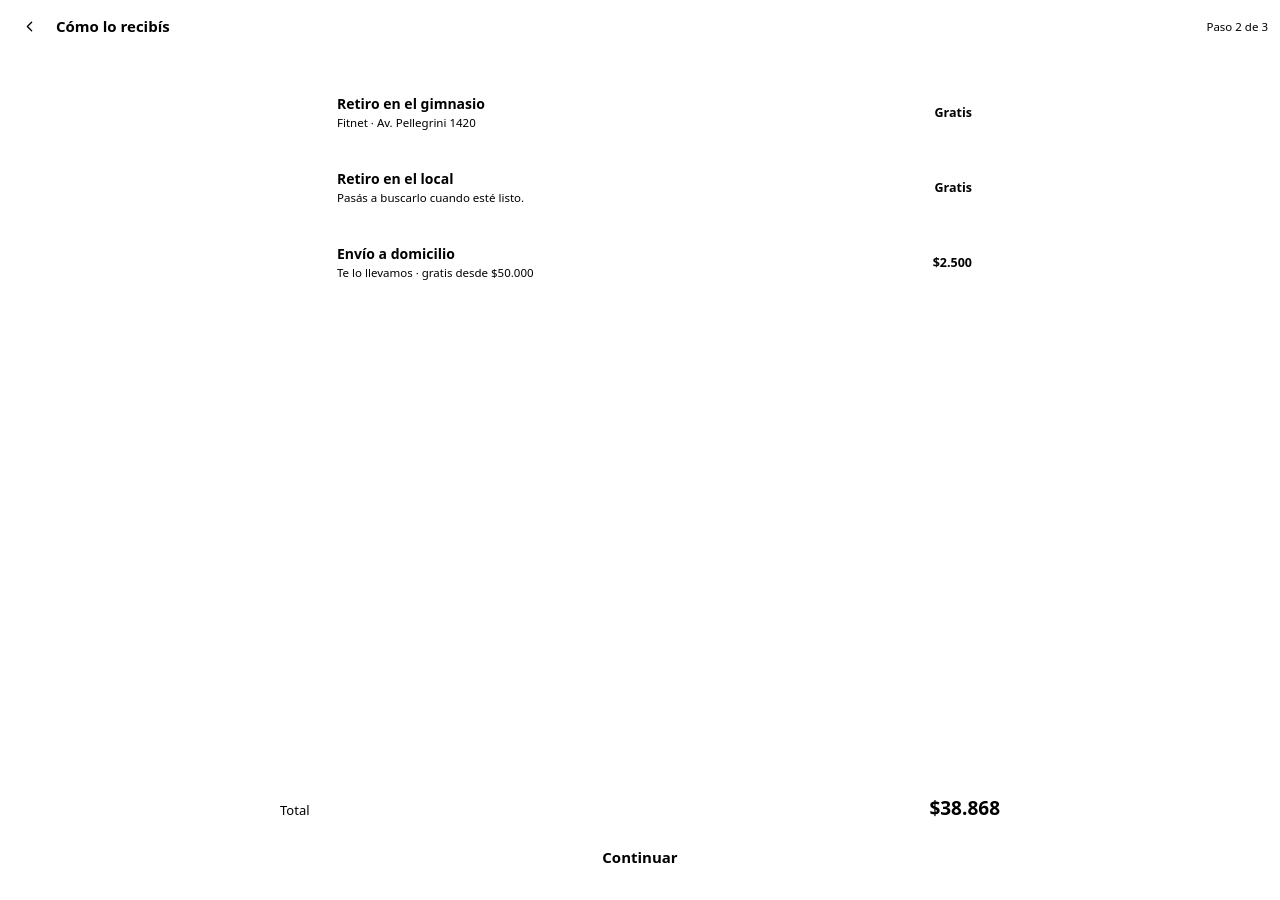
checkout · paso 2, la entrega › no se puede saltear: sin entrega elegida no avanza
Click the button "Continuar".
click(640, 857)  # box x1=280 y1=832 x2=1000 y2=882
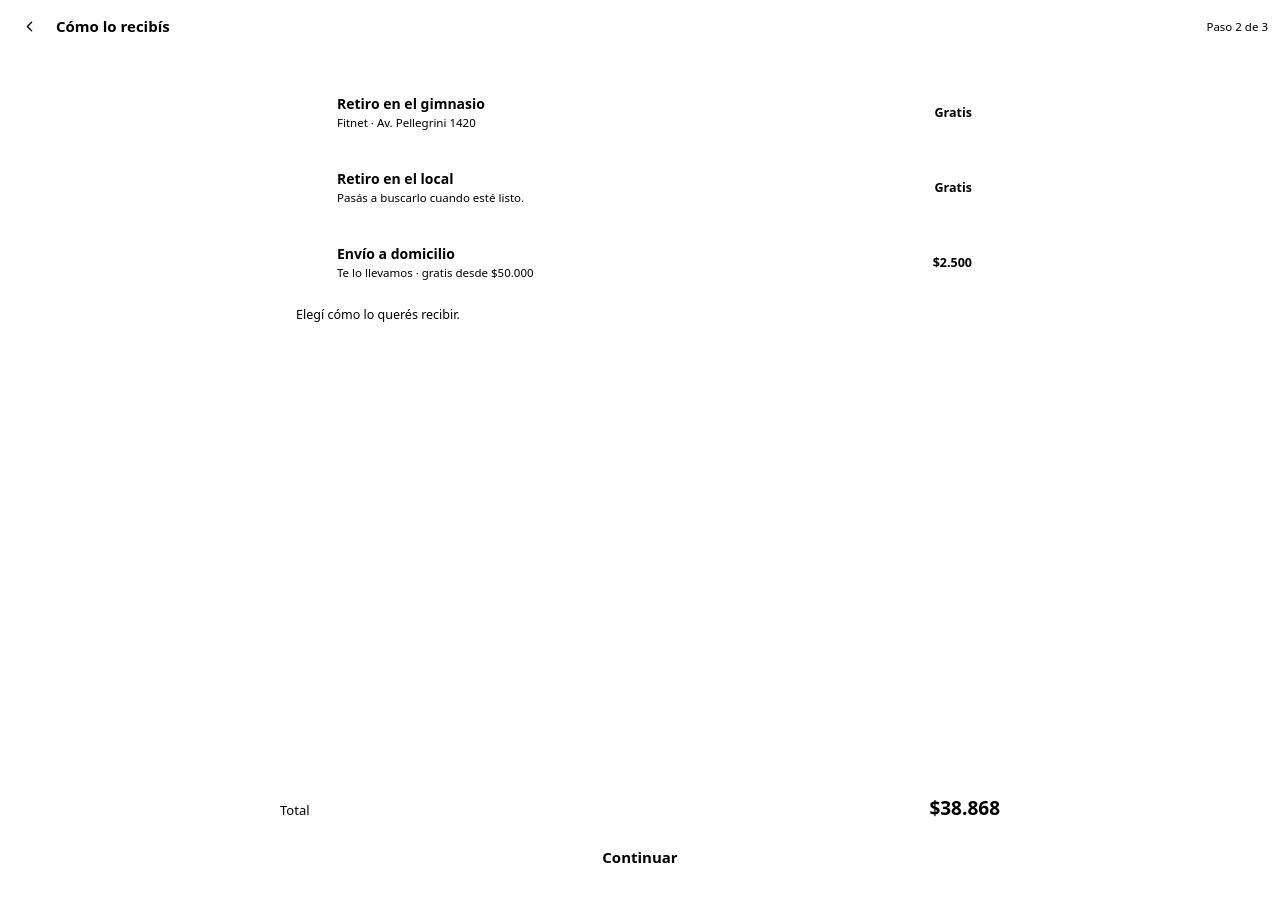
Expected: the message "Elegí cómo lo querés recibir." is shown, x1=296 y1=306 x2=460 y2=323
